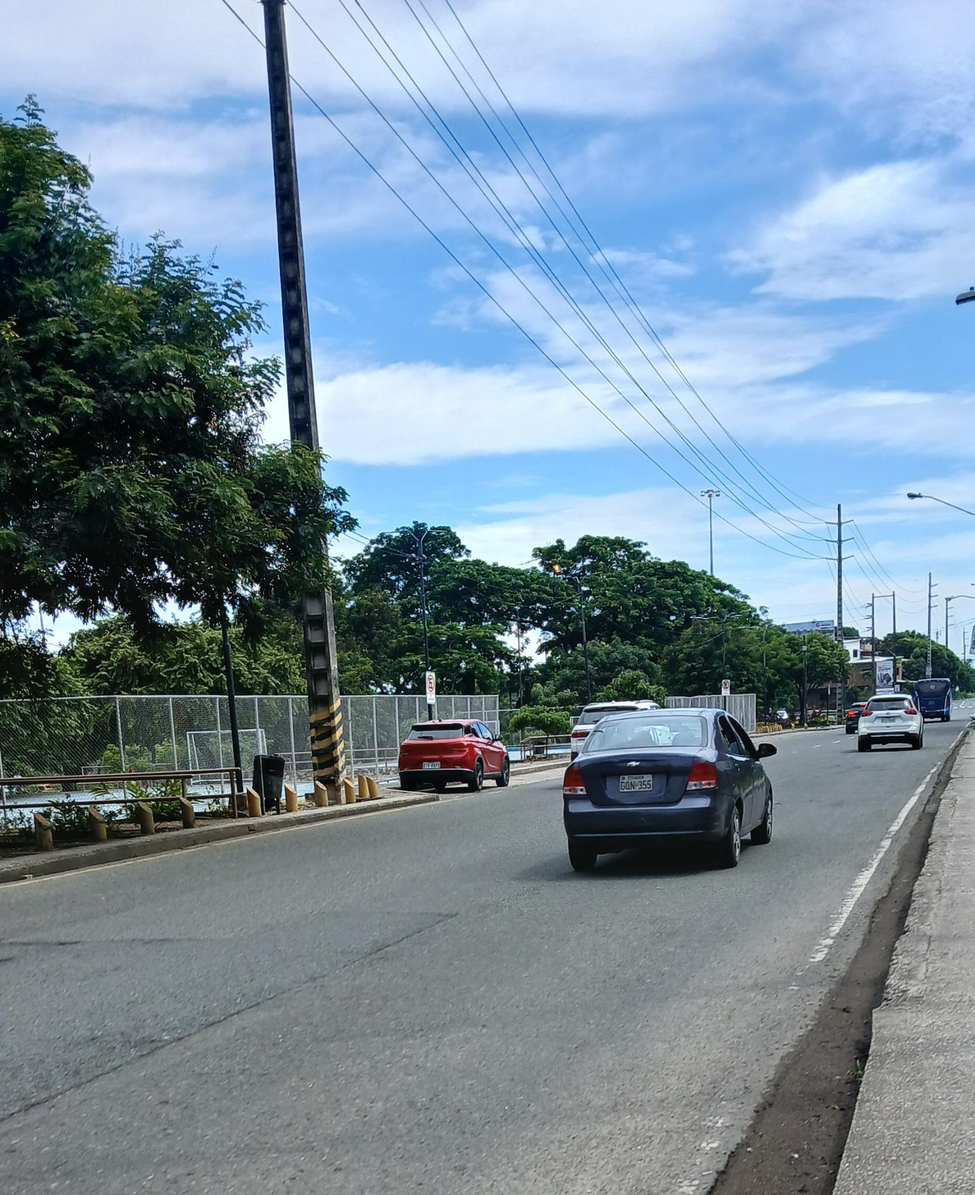license_plate: (618, 774, 652, 792), (422, 761, 441, 769), (879, 717, 894, 722)
